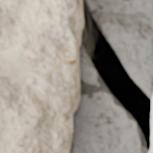brick: (0, 0, 82, 152), (149, 106, 152, 152)
crack: (80, 2, 152, 150)
